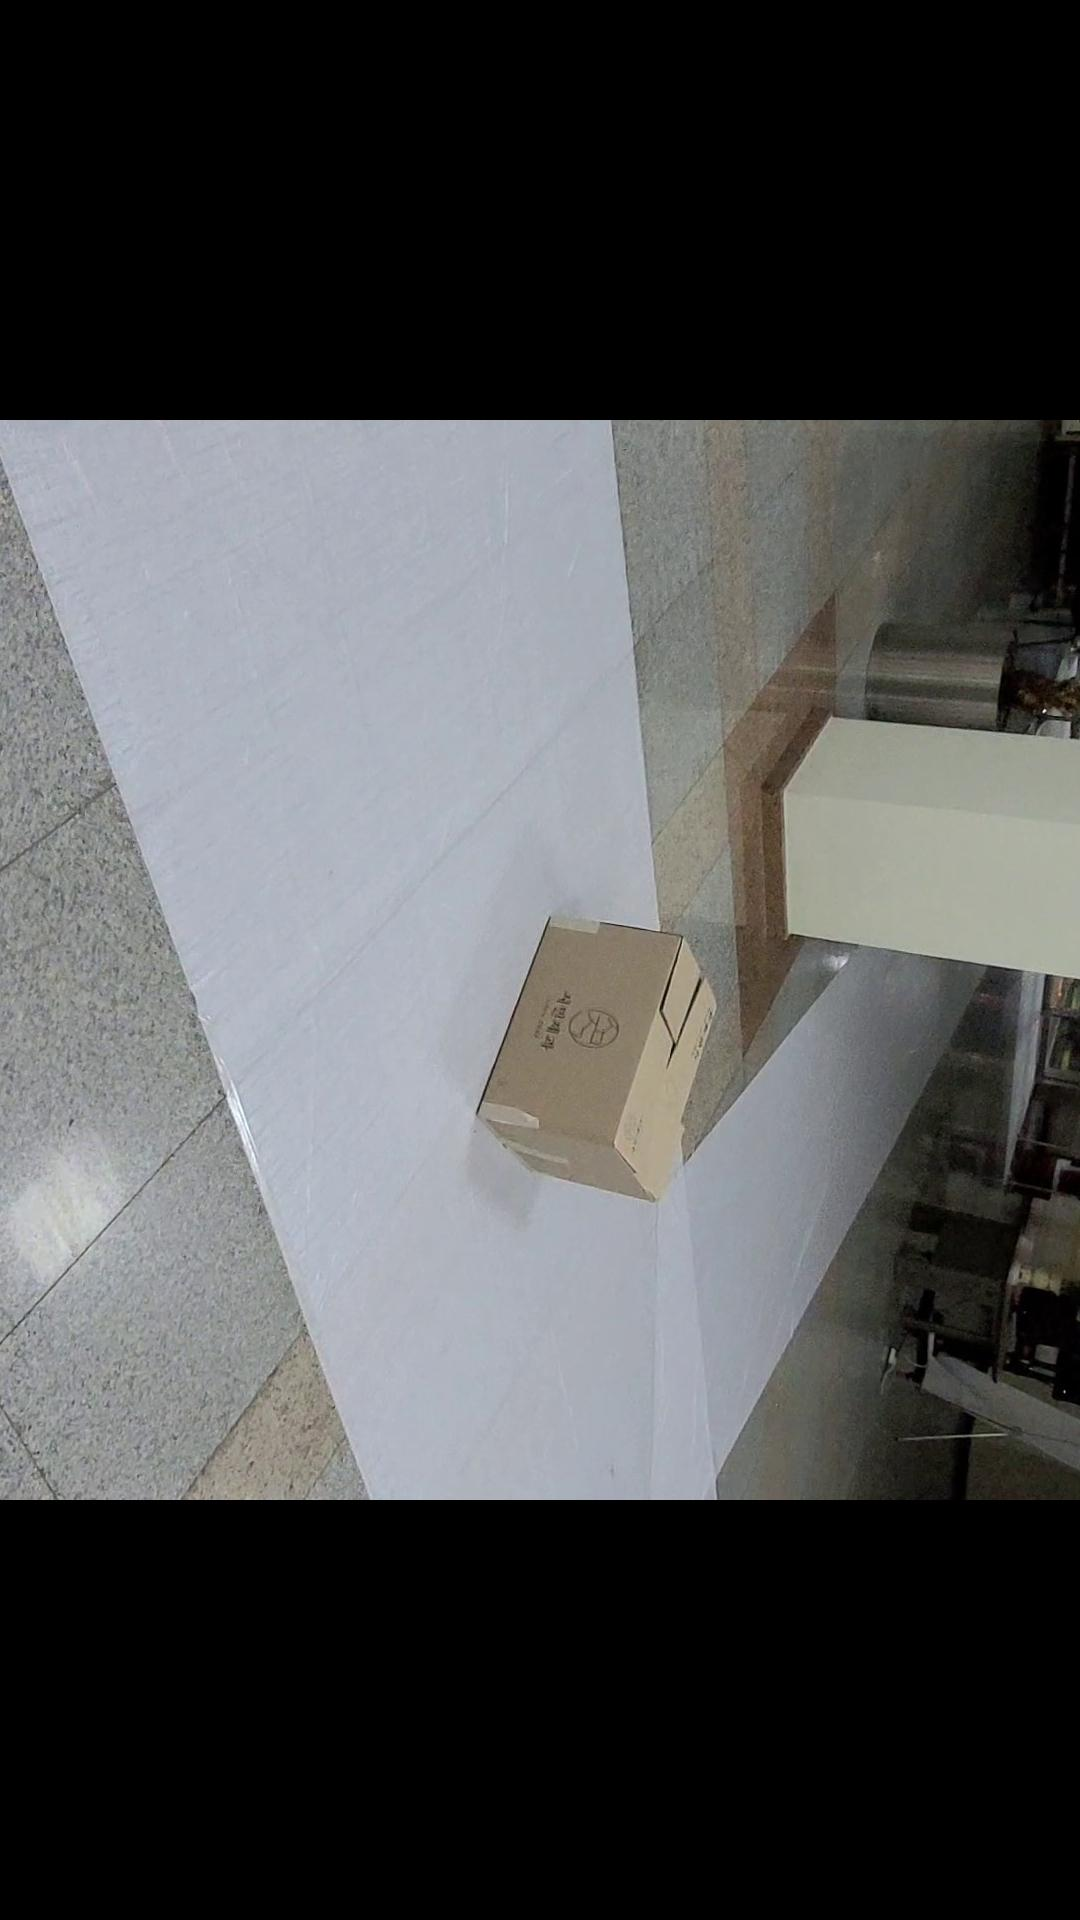Box: (465, 884, 720, 1251)
